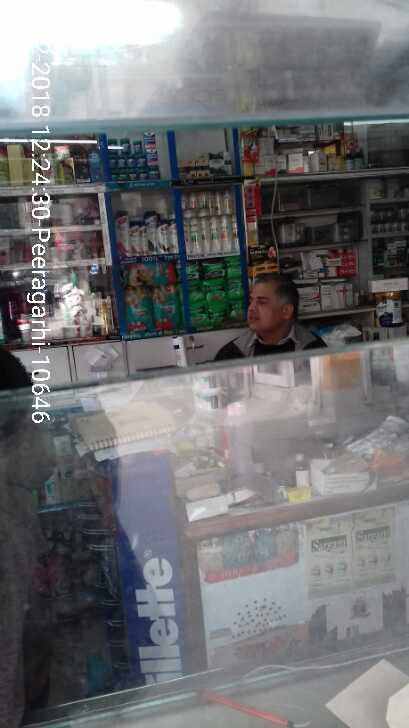vicks: (106, 128, 165, 185)
